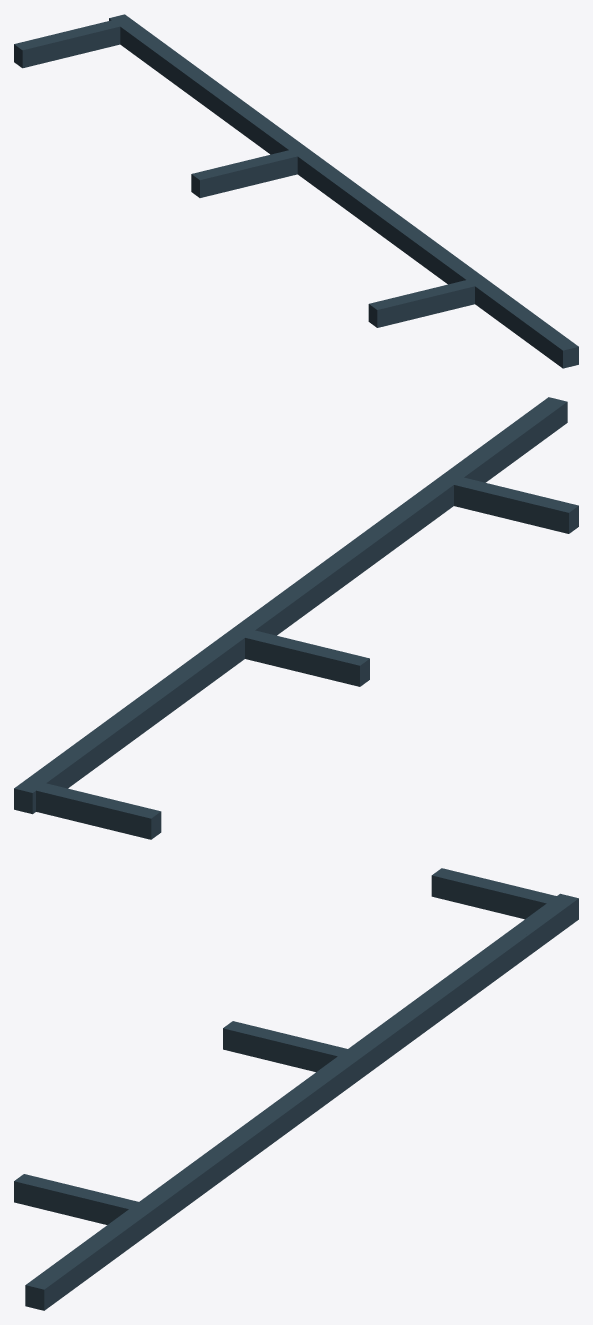
The model's file is v02-transit-world-01-03-02.glb.
3 renders of one model, top to bottom at view 1: azimuth 30°, elevation 25°; view 2: azimuth 150°, elevation 25°; view 3: azimuth 330°, elevation 25°, orthographic. The views are drawn at different scales.
Visible parts, largest first — view 1: v02-transit-world-01-03-02; view 2: v02-transit-world-01-03-02; view 3: v02-transit-world-01-03-02.
Part boxes in pixels (left/top/right/bottom): v02-transit-world-01-03-02: left=14, top=14, right=578, bottom=368; v02-transit-world-01-03-02: left=14, top=397, right=578, bottom=839; v02-transit-world-01-03-02: left=14, top=868, right=578, bottom=1310.
Size of the model in its own units: 9.25 by 1.4 by 63.99.
